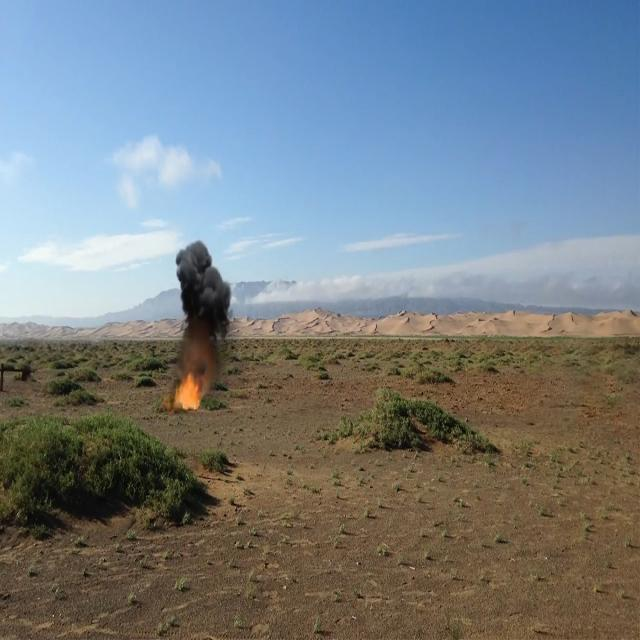Fire: (175, 376, 202, 414)
Smoke: (176, 242, 226, 348)
